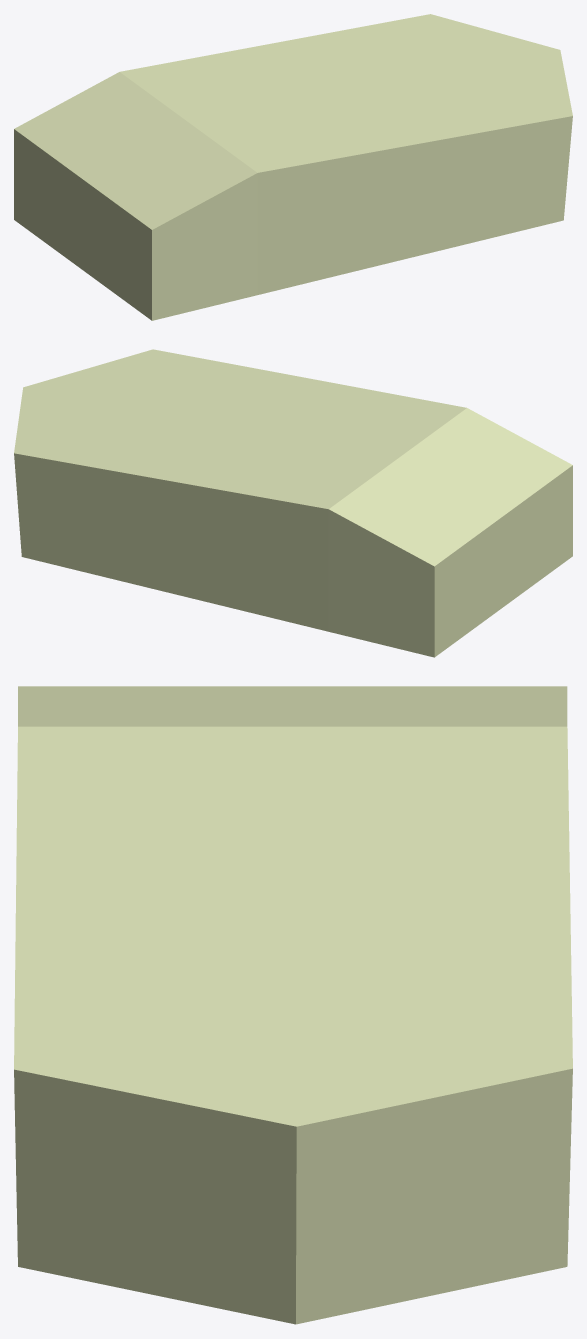
The model's file is mouseOld.fbx.
3 renders of one model, top to bottom at view 1: azimuth 30°, elevation 25°; view 2: azimuth 150°, elevation 25°; view 3: azimuth 270°, elevation 25°, orthographic. The views are drawn at different scales.
Parts seen in each view (by area): view 1: Cube; view 2: Cube; view 3: Cube.
Boxes of the visible parts, x1,y1,x2,y2 form: Cube: (14,14,572,320); Cube: (14,349,572,657); Cube: (14,686,572,1324).
Bounding box in the file's own units: 172 × 42 × 87.5.
